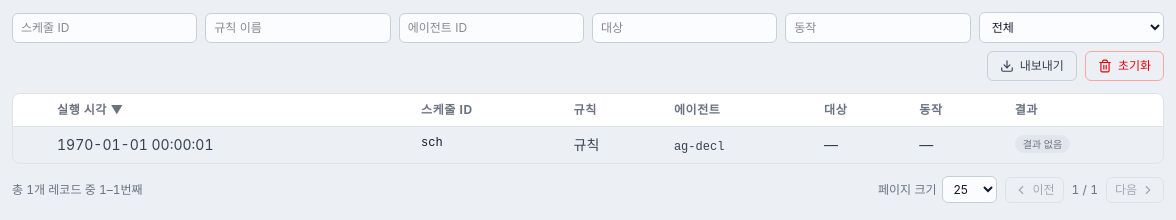
Test: 실행 시각 정렬(order) › 실행 시각 헤더 클릭 시 order 가 asc 로 토글되고 표시자가 바뀐다
The image size is (1176, 220).
Expected: the column heading with test id "log-sort-time" shows "▼", [110,102,124,117]
Click the column heading with test id "log-sort-time": (84, 110) [45,94,409,126]
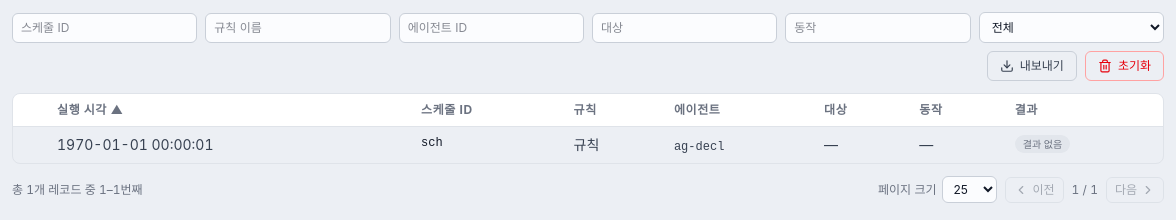
Expected: the column heading with test id "log-sort-time" shows "▲", [110,102,124,117]
